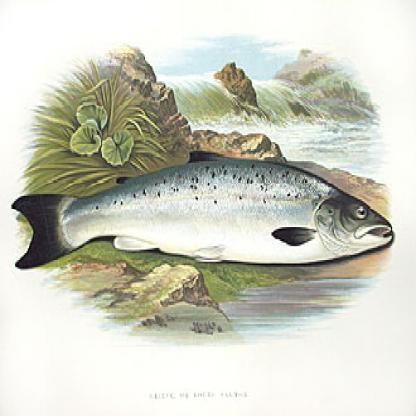fish: (9, 143, 392, 266)
